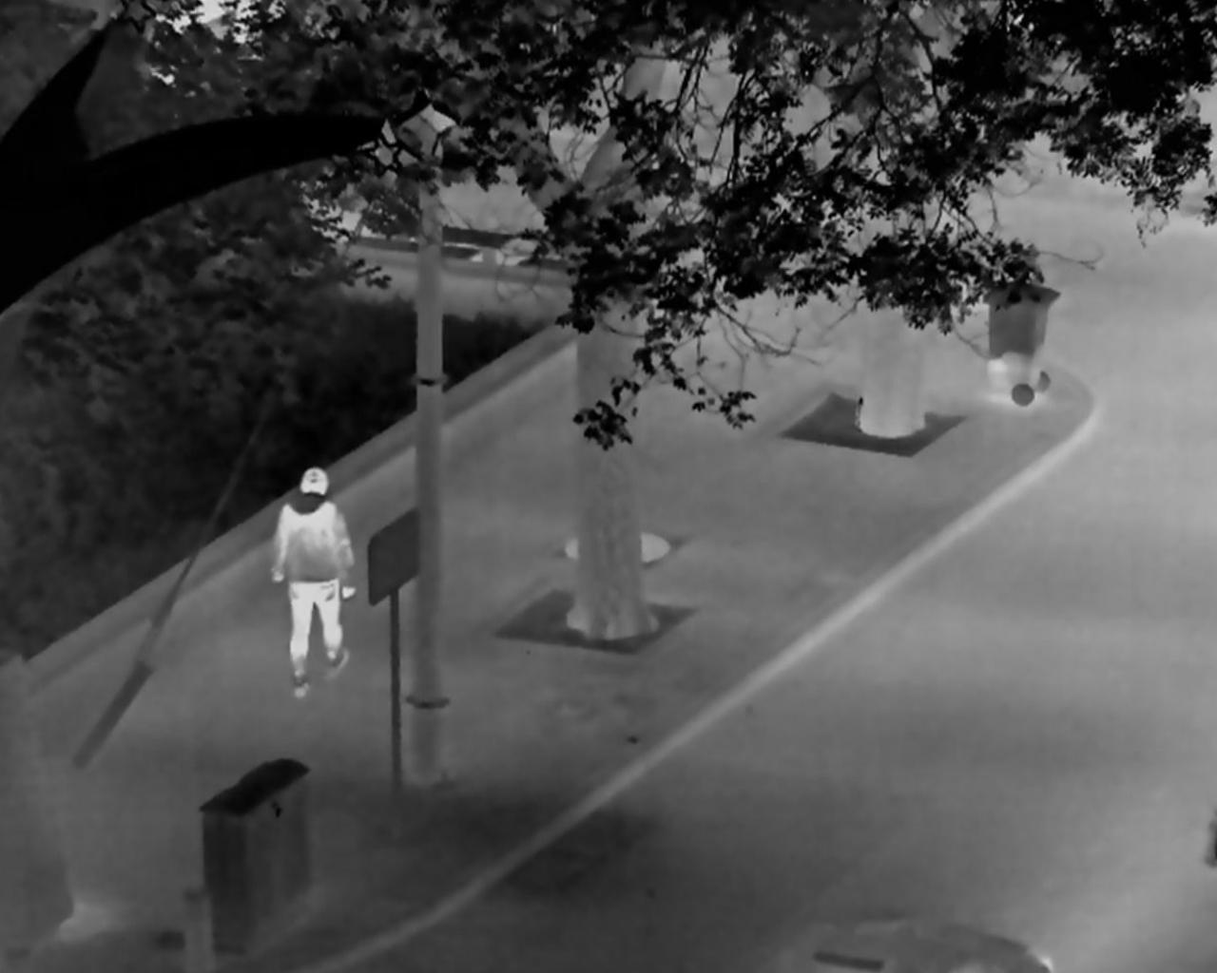person: (269, 465, 357, 697)
